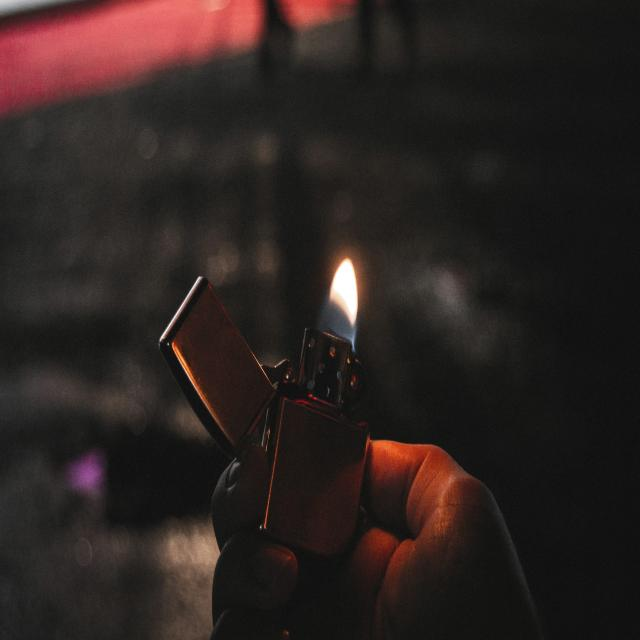fire: (330, 258, 358, 326)
